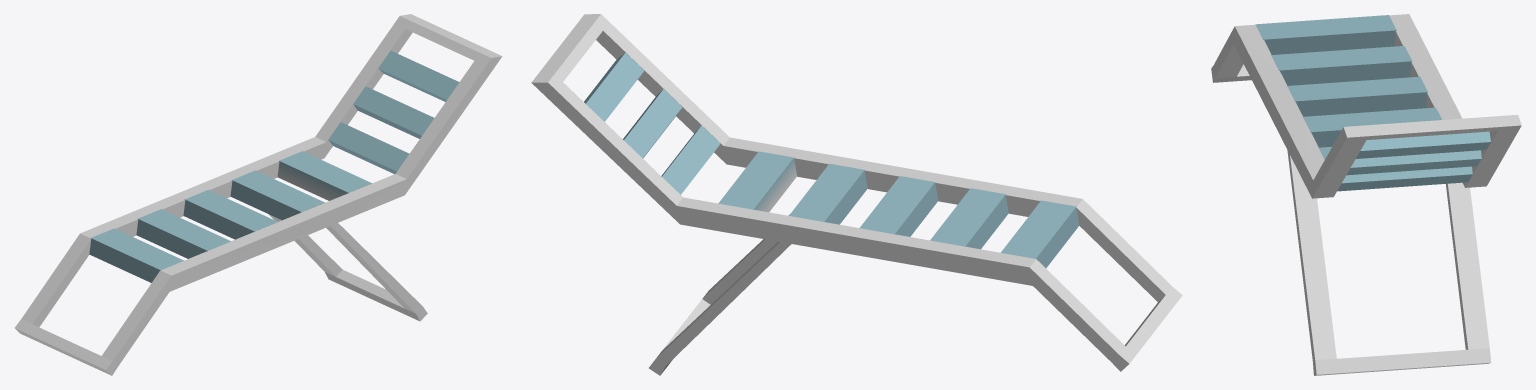
Rendered from bay-sunbed.lod1.glb.
3 views of the same model, side by side, from view 1: azimuth 30°, elevation 25°; view 2: azimuth 150°, elevation 25°; view 3: azimuth 270°, elevation 25° (orthographic). The views are drawn at different scales.
Parts seen in each view (by area): view 1: LB2-material; view 2: LB2-material; view 3: LB2-material.
Part boxes in pixels (x1,y1,x2,y2): LB2-material: (14,14,502,375); LB2-material: (531,14,1182,375); LB2-material: (1211,14,1521,375).
Bounding box in the file's own units: 1.9 × 0.9088 × 0.8436.
